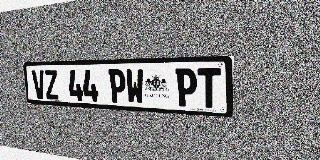4: (82, 69, 99, 102), (67, 69, 84, 101)
P: (175, 68, 197, 107), (108, 69, 126, 103)
T: (198, 68, 221, 108)
V: (32, 70, 46, 99)
W: (125, 69, 145, 104)
Z: (44, 70, 59, 100)
